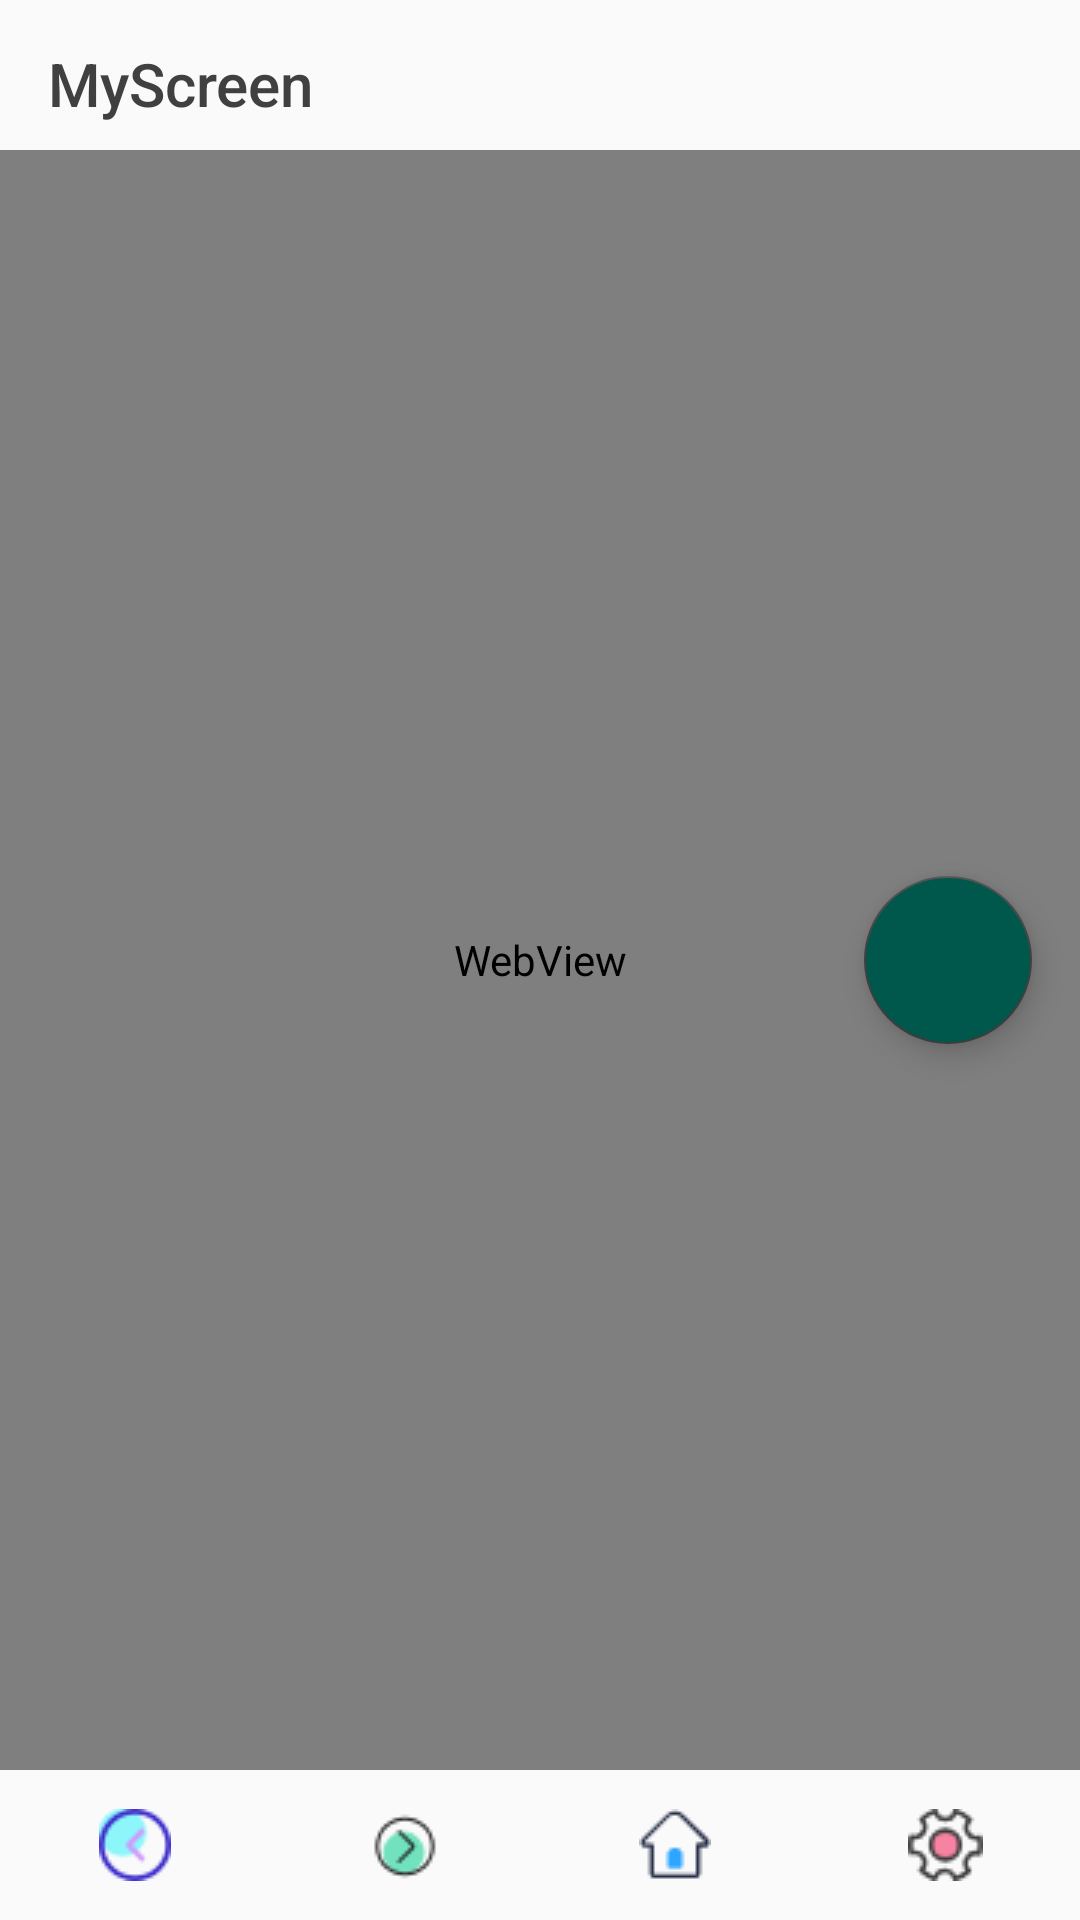

Screen size 1080 x 1920. Icon name, then its center in pixels as point (x, y):
back: point (135, 1845)
front botton: point (405, 1846)
home: point (675, 1844)
setting botton: point (945, 1845)
